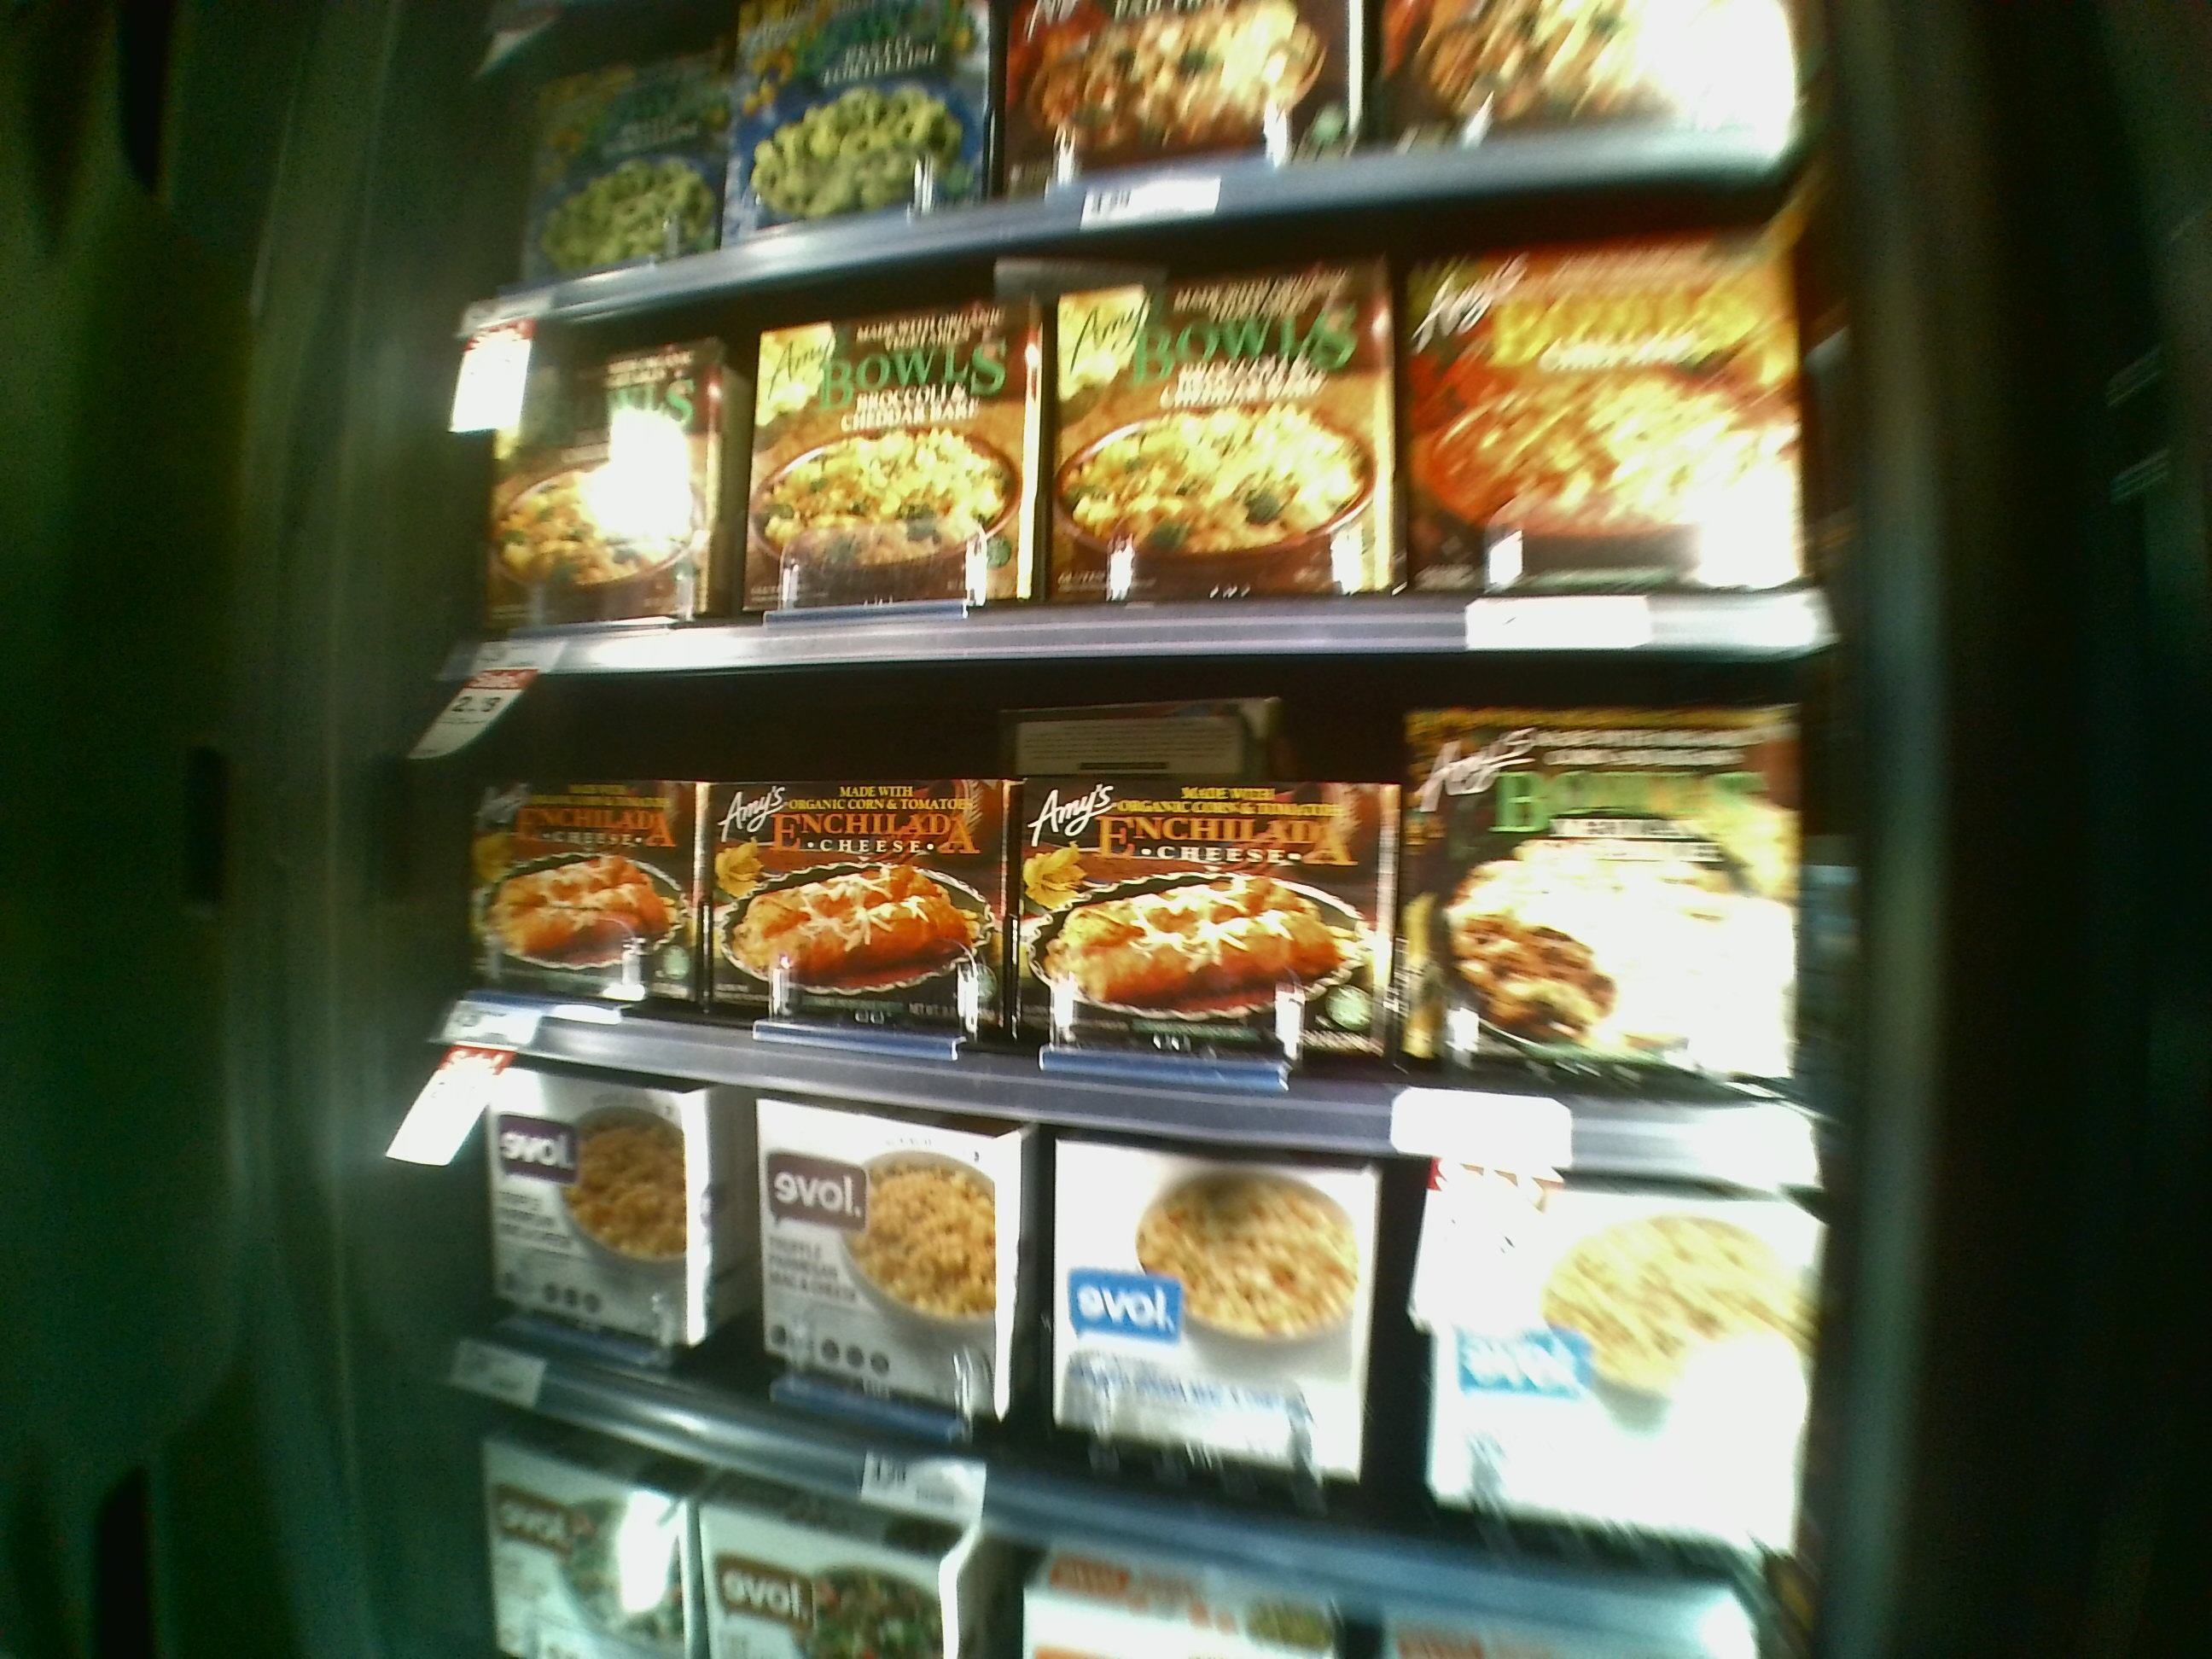shelf: (456, 664, 1808, 1183), (462, 1091, 1813, 1546), (463, 258, 1806, 655)
